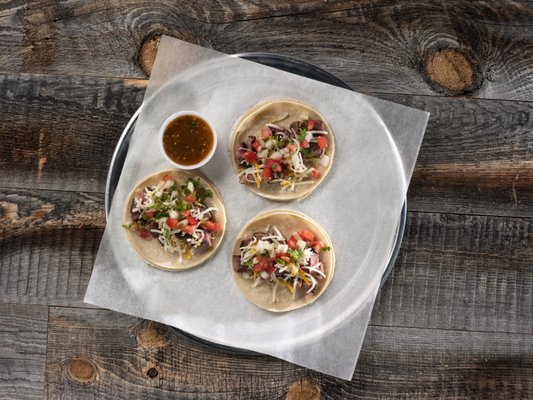sushi: (229, 97, 335, 203), (229, 209, 335, 314), (159, 112, 216, 169)
